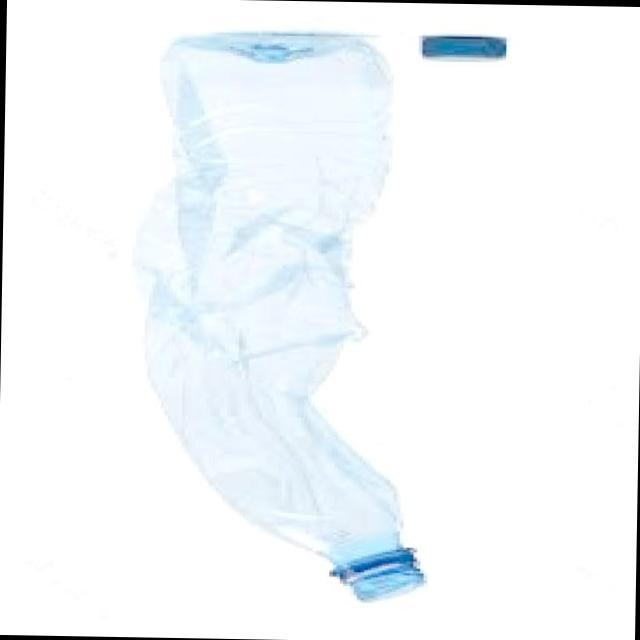defected: (117, 31, 509, 614)
